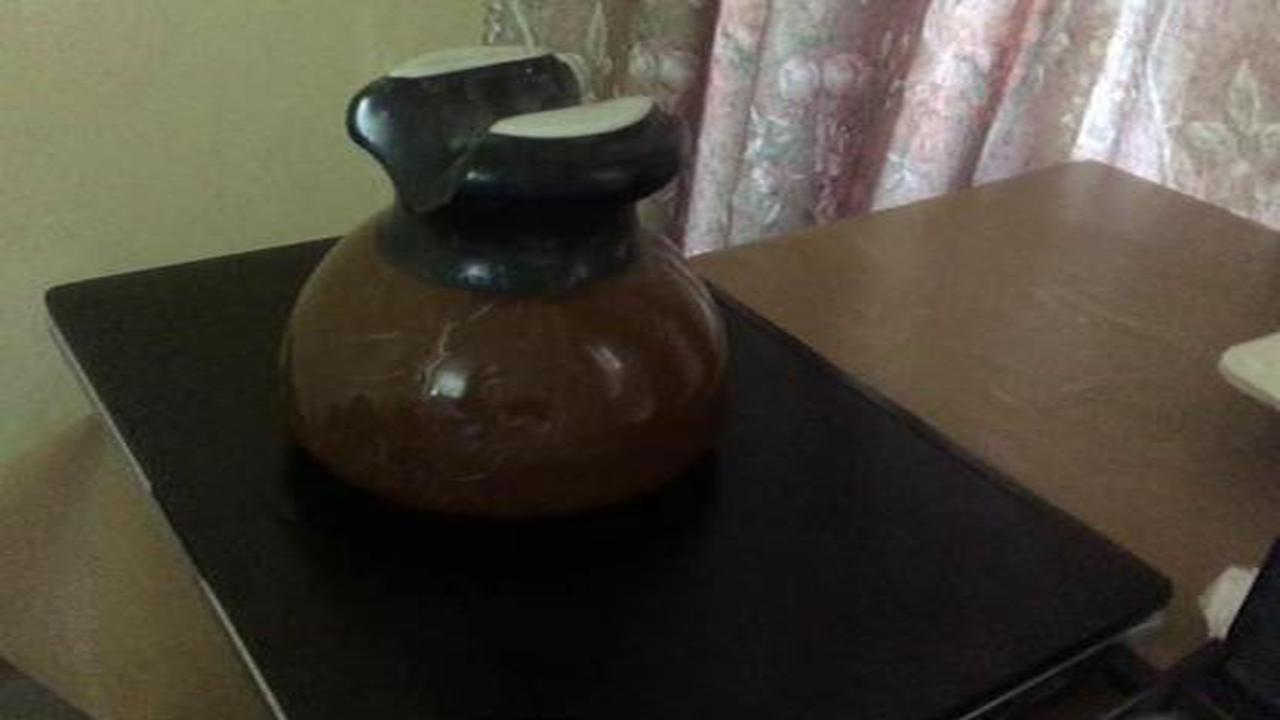insulator_pin: (253, 26, 764, 535)
